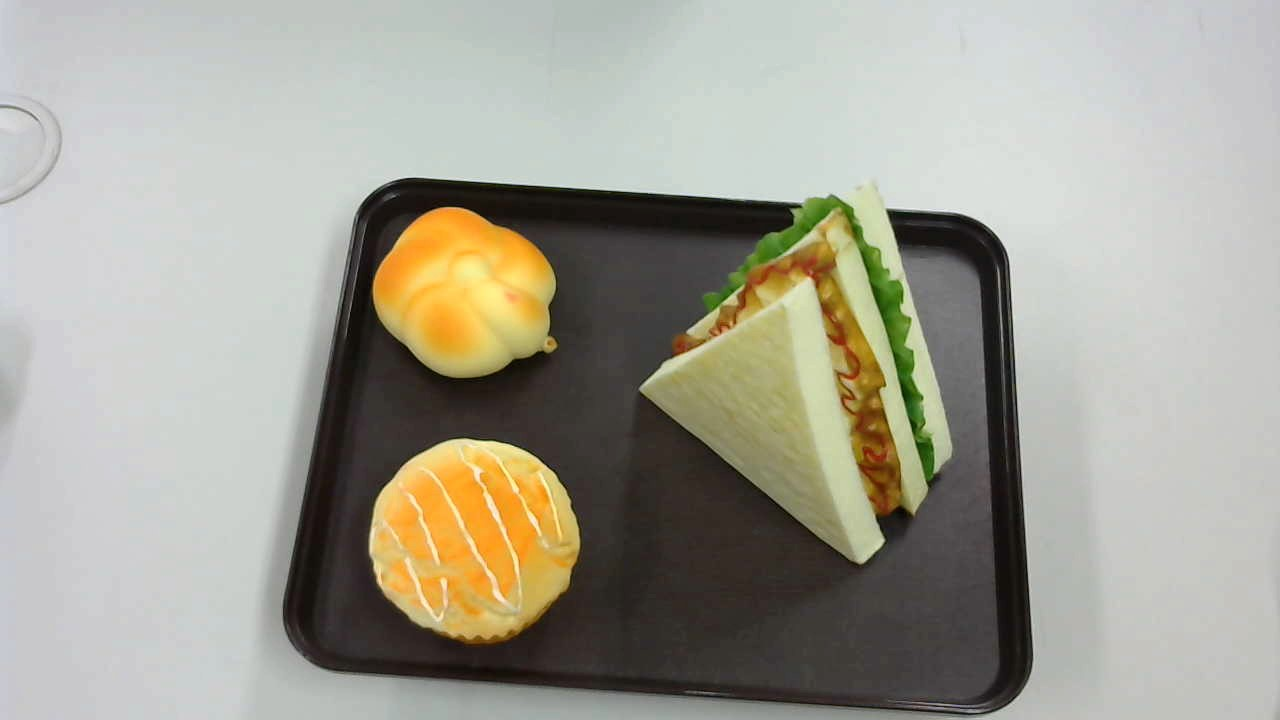cupcake: (367, 437, 580, 644)
sandwich: (638, 174, 954, 565)
twist bread: (368, 205, 558, 378)
